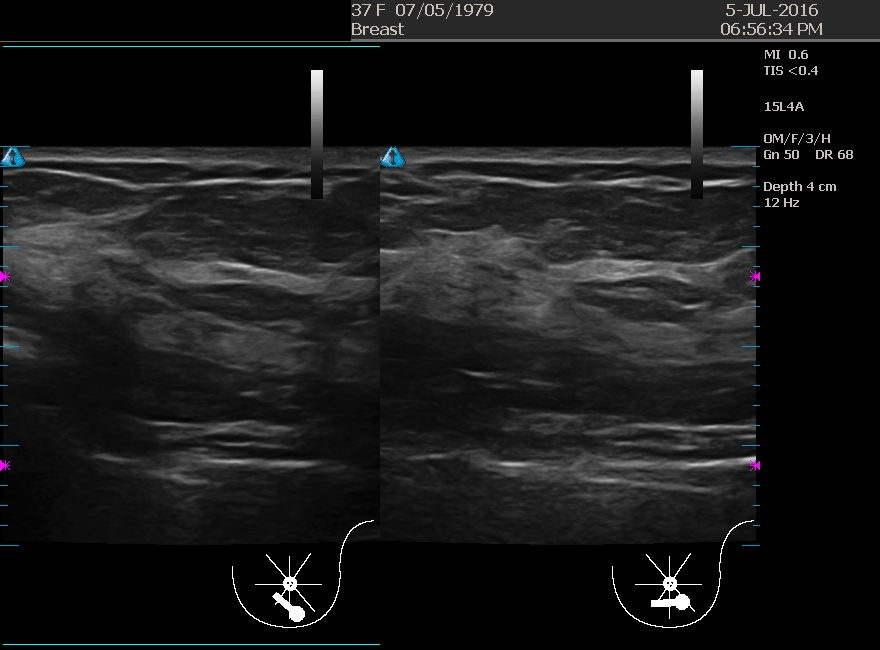BIRADS_3: (540, 259, 740, 460), (145, 202, 345, 402)
